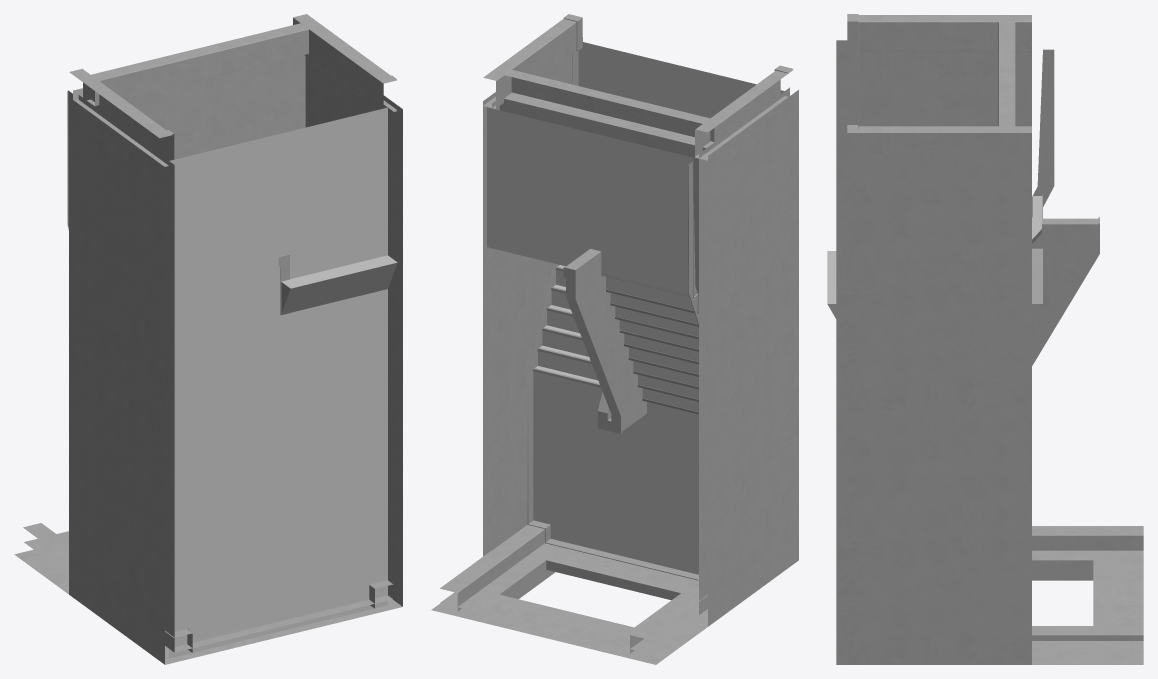
Rendered from Stair_Bottom.fbx.
3 views of the same model, side by side, from view 1: azimuth 30°, elevation 25°; view 2: azimuth 150°, elevation 25°; view 3: azimuth 270°, elevation 25° (orthographic). The views are drawn at different scales.
Parts seen in each view (by area): view 1: SM_StaircaseMesh_01_Bottom_LOD0; view 2: SM_StaircaseMesh_01_Bottom_LOD0; view 3: SM_StaircaseMesh_01_Bottom_LOD0.
Part boxes in pixels (x1,y1,x2,y2): SM_StaircaseMesh_01_Bottom_LOD0: (14,14,402,664); SM_StaircaseMesh_01_Bottom_LOD0: (431,14,798,664); SM_StaircaseMesh_01_Bottom_LOD0: (827,14,1143,664).
Bounding box in the file's own units: 5 × 10.72 × 5.66.
